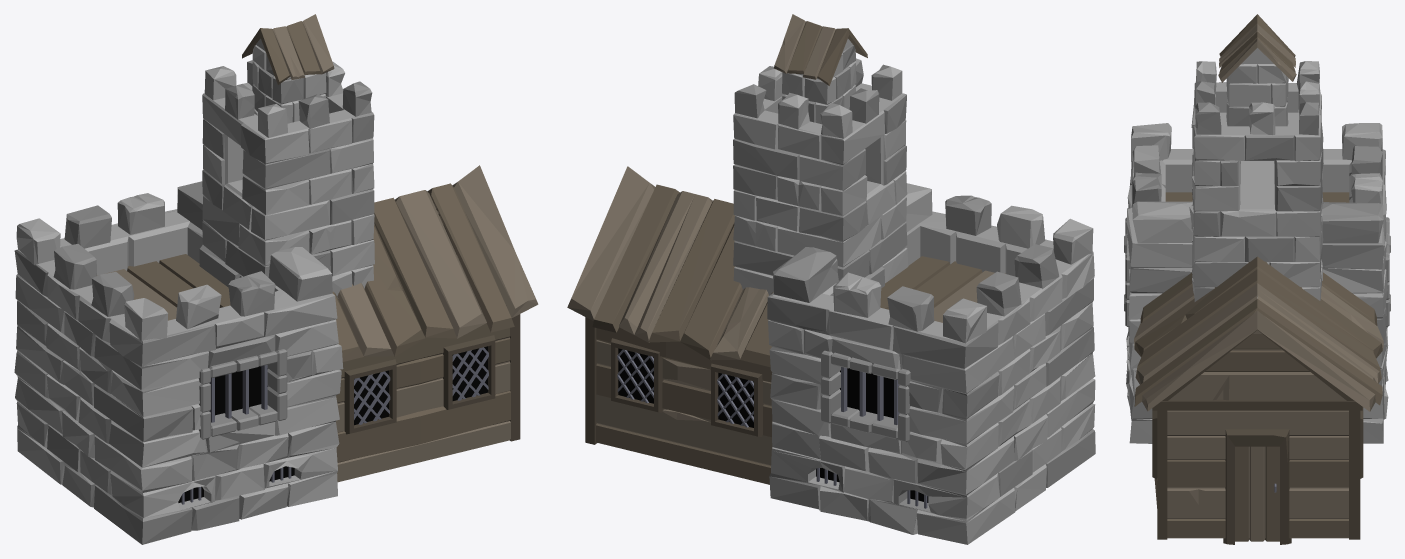
The model's file is Prison.glb.
3 views of the same model, side by side, from view 1: azimuth 30°, elevation 25°; view 2: azimuth 150°, elevation 25°; view 3: azimuth 270°, elevation 25° (orthographic).
Parts seen in each view (by area): view 1: Prison; view 2: Prison; view 3: Prison.
Boxes of the visible parts, bbox=[...] form: Prison: bbox=[14, 14, 538, 544]; Prison: bbox=[567, 14, 1095, 544]; Prison: bbox=[1124, 14, 1390, 544].
Size of the model in its own units: 8.88 by 9.03 by 5.04.
1 material, 1 textured.
